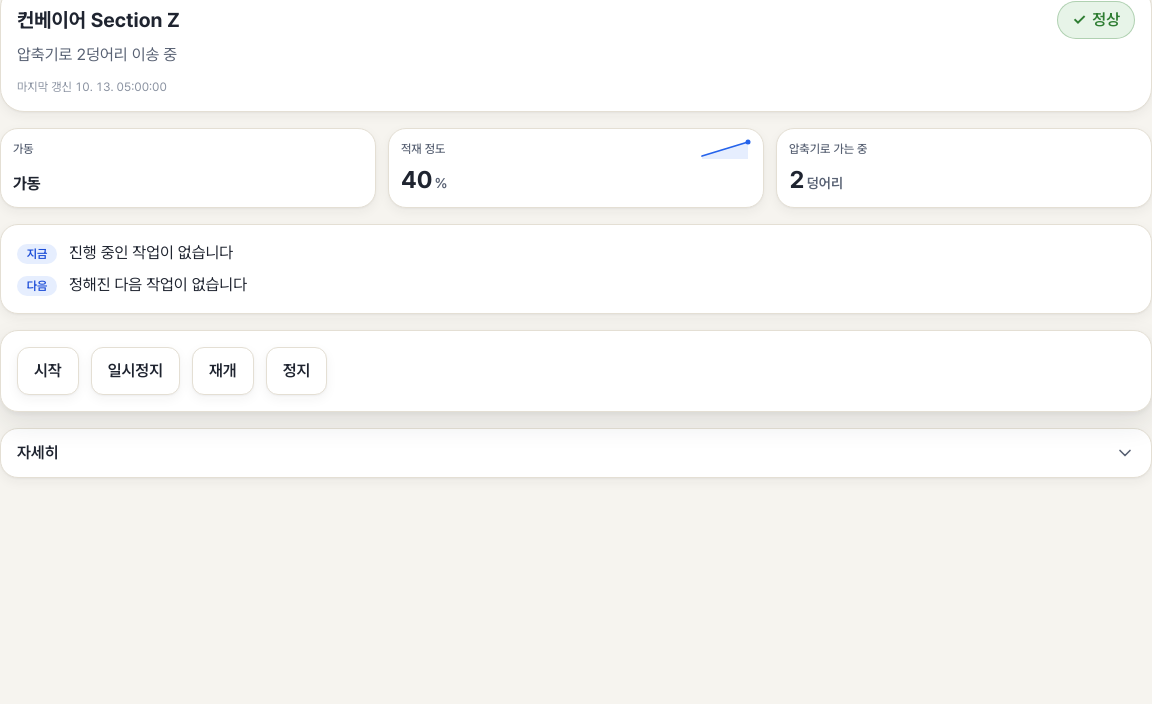
Scenario: ConveyorPage › 이력 그래프·속도 설정·알람 이력은 "자세히" 안에 있고 열 때 요청한다
The width and height of the screenshot is (1152, 704).
Expected: the field labelled "이송 속도" is not shown
Click the button "자세히": (38, 452) [1,429,1151,477]
(page scrolled)
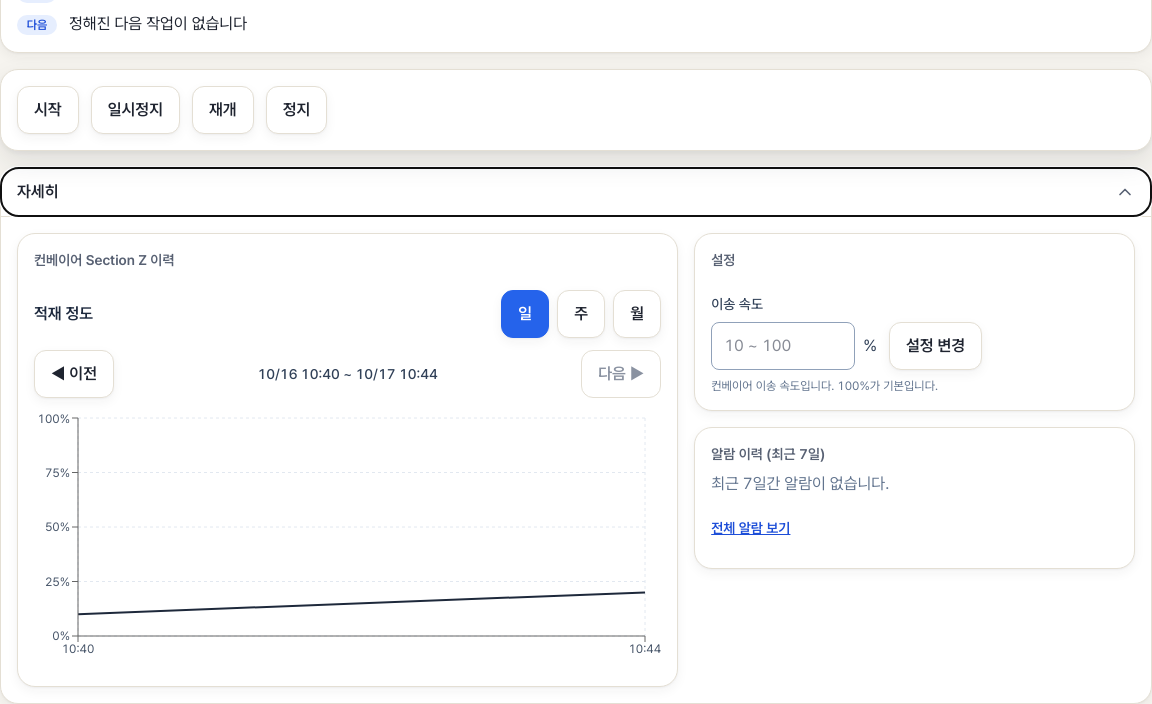
Now the field labelled "이송 속도" is enabled, box [711,322,855,370]
Now the text "최근 7일간 알람이 없습니다." is shown, box [711,474,889,493]
